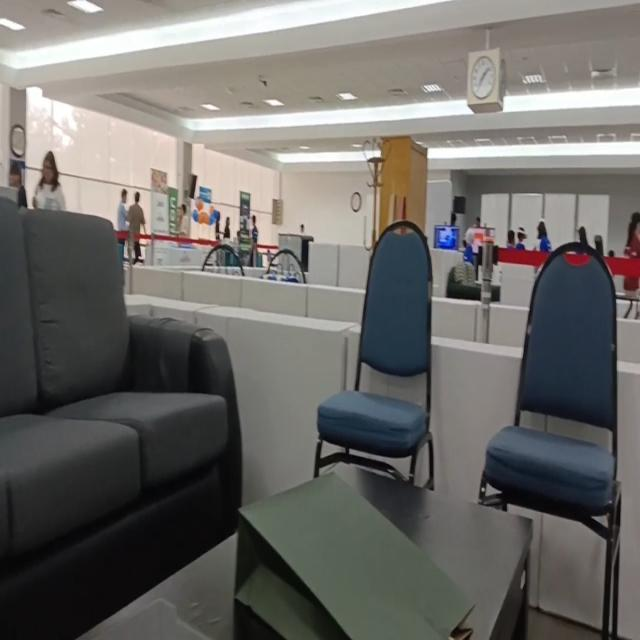sandalye: (478, 231, 625, 639), (28, 208, 230, 494), (314, 220, 434, 489)
